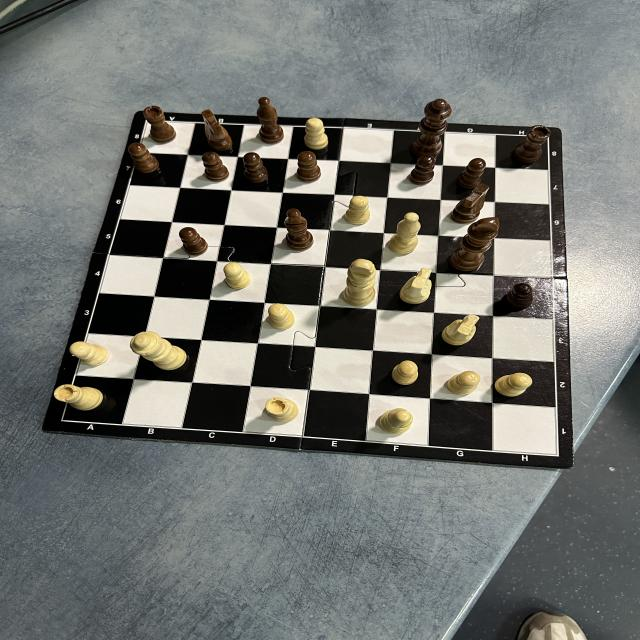Black-Bishop: (257, 97, 284, 144), (285, 208, 313, 251)
Black-King: (450, 217, 499, 270)
Black-Knight: (452, 182, 490, 222), (201, 109, 231, 151)
Black-Pawn: (128, 142, 158, 173), (408, 155, 436, 184), (458, 157, 485, 186), (202, 153, 229, 181), (296, 152, 321, 182), (243, 152, 267, 183), (180, 228, 207, 254), (506, 283, 534, 307)
Black-Queen: (409, 99, 452, 156)
Black-Rook: (513, 126, 549, 162), (144, 105, 176, 143)
White-Bishop: (387, 213, 421, 254), (378, 408, 413, 434)
White-King: (343, 258, 377, 306)
White-Knight: (442, 314, 479, 346), (400, 267, 432, 304)
White-Pawn: (70, 341, 109, 366), (495, 374, 533, 396), (448, 371, 480, 395), (267, 302, 293, 330), (304, 119, 328, 149), (346, 196, 370, 225), (225, 264, 251, 290), (392, 361, 418, 385)
White-Queen: (130, 331, 188, 370)
White-Rook: (53, 385, 103, 409), (265, 396, 298, 422)
